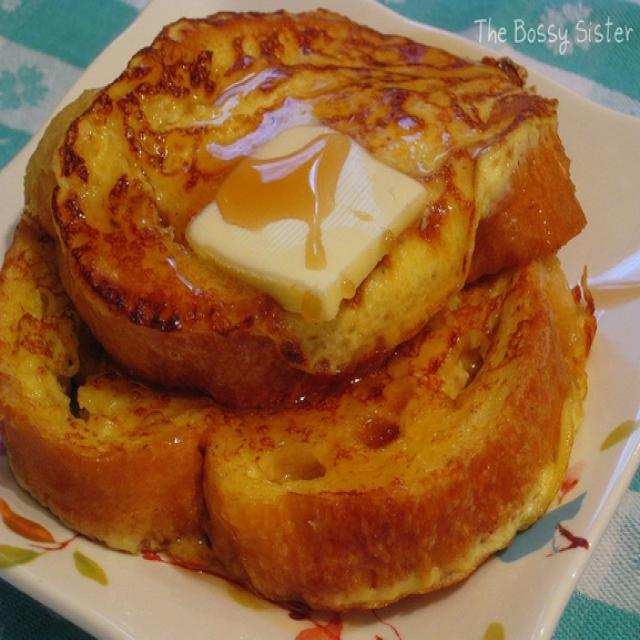面包点心: (8, 13, 598, 610)
